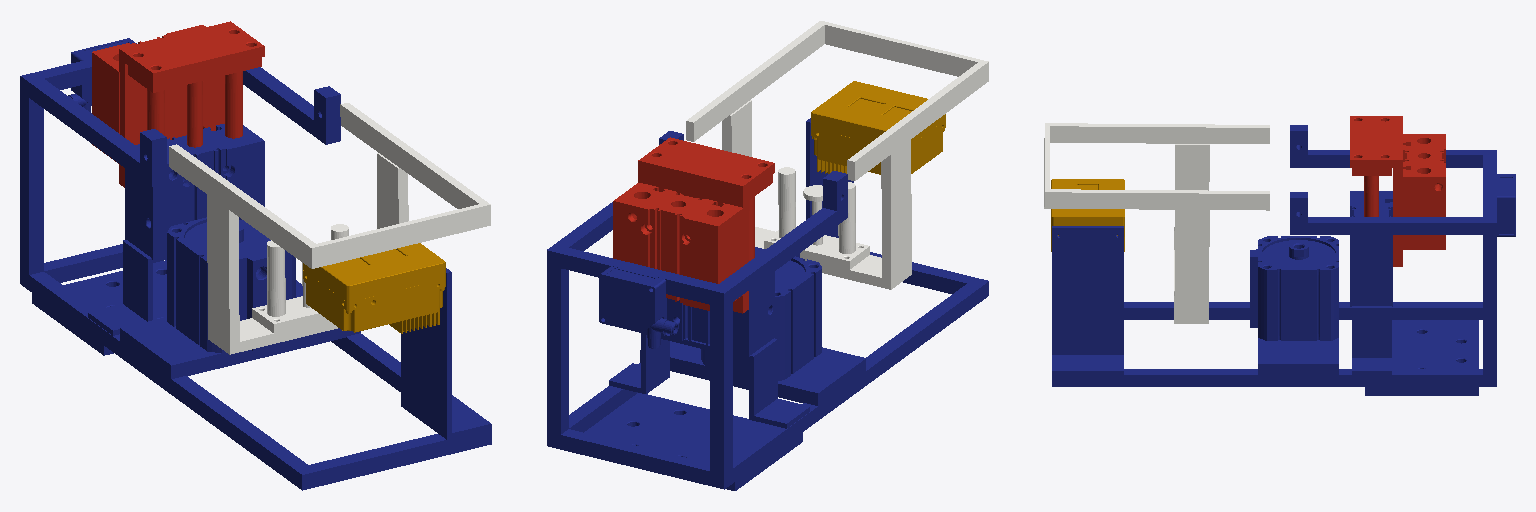
URDF robot description (eoat):
<?xml version="1.0" ?>
<!-- =================================================================================== -->
<!-- |    This document was autogenerated by xacro from eoat.xacro                     | -->
<!-- |    EDITING THIS FILE BY HAND IS NOT RECOMMENDED                                 | -->
<!-- =================================================================================== -->
<robot name="eoat">
  <material name="silver_default">
    <color rgba="0.700 0.700 0.700 1.000"/>
  </material>
  <material name="paint_metallic_red">
    <color rgba="0.7686274509803922 0.20784313725490197 0.15294117647058825 1.0"/>
  </material>
  <material name="paint_metallic_silver">
    <color rgba="0.984313725490196 0.9803921568627451 0.9607843137254902 1.0"/>
  </material>
  <material name="paint_metallic_blue">
    <color rgba="0.18823529411764706 0.23137254901960785 0.5882352941176471 1.0"/>
  </material>
  <material name="polymide_kapton">
    <color rgba="0.7843137254901961 0.5568627450980392 0.027450980392156862 1.0"/>
  </material>
  <transmission name="boxSupport_joint_tran">
    <type>transmission_interface/SimpleTransmission</type>
    <joint name="boxSupport_joint">
      <hardwareInterface>hardware_interface/EffortJointInterface</hardwareInterface>
    </joint>
    <actuator name="boxSupport_joint_actr">
      <hardwareInterface>hardware_interface/EffortJointInterface</hardwareInterface>
      <mechanicalReduction>1</mechanicalReduction>
    </actuator>
  </transmission>
  <transmission name="suctionLifter_joint_tran">
    <type>transmission_interface/SimpleTransmission</type>
    <joint name="suctionLifter_joint">
      <hardwareInterface>hardware_interface/EffortJointInterface</hardwareInterface>
    </joint>
    <actuator name="suctionLifter_joint_actr">
      <hardwareInterface>hardware_interface/EffortJointInterface</hardwareInterface>
      <mechanicalReduction>1</mechanicalReduction>
    </actuator>
  </transmission>
  <transmission name="suction_joint_tran">
    <type>transmission_interface/SimpleTransmission</type>
    <joint name="suction_joint">
      <hardwareInterface>hardware_interface/EffortJointInterface</hardwareInterface>
    </joint>
    <actuator name="suction_joint_actr">
      <hardwareInterface>hardware_interface/EffortJointInterface</hardwareInterface>
      <mechanicalReduction>1</mechanicalReduction>
    </actuator>
  </transmission>
  <transmission name="padRotate_joint_tran">
    <type>transmission_interface/SimpleTransmission</type>
    <joint name="padRotate_joint">
      <hardwareInterface>hardware_interface/EffortJointInterface</hardwareInterface>
    </joint>
    <actuator name="padRotate_joint_actr">
      <hardwareInterface>hardware_interface/EffortJointInterface</hardwareInterface>
      <mechanicalReduction>1</mechanicalReduction>
    </actuator>
  </transmission>
  <gazebo>
    <plugin filename="libgazebo_ros_control.so" name="control"/>
  </gazebo>
  <gazebo reference="base_link">
    <material>Gazebo/Silver</material>
    <mu1>0.2</mu1>
    <mu2>0.2</mu2>
    <selfCollide>true</selfCollide>
    <gravity>true</gravity>
  </gazebo>
  <gazebo reference="LARGE_PAD_LIFTER_1">
    <material>Gazebo/Silver</material>
    <mu1>0.2</mu1>
    <mu2>0.2</mu2>
    <selfCollide>true</selfCollide>
  </gazebo>
  <gazebo reference="SMALL_PAD_LIFTER_1">
    <material>Gazebo/Silver</material>
    <mu1>0.2</mu1>
    <mu2>0.2</mu2>
    <selfCollide>true</selfCollide>
  </gazebo>
  <gazebo reference="SMALL_PAD_1">
    <material>Gazebo/Silver</material>
    <mu1>0.2</mu1>
    <mu2>0.2</mu2>
    <selfCollide>true</selfCollide>
  </gazebo>
  <gazebo reference="LARGE_PAD_1">
    <material>Gazebo/Silver</material>
    <mu1>0.2</mu1>
    <mu2>0.2</mu2>
    <selfCollide>true</selfCollide>
  </gazebo>
  <gazebo reference="camera_1">
    <material>Gazebo/Silver</material>
    <mu1>0.2</mu1>
    <mu2>0.2</mu2>
    <selfCollide>true</selfCollide>
  </gazebo>
  <link name="base_link">
    <inertial>
      <origin rpy="0 0 0" xyz="-0.0013655188721125974 -0.09999111481847915 0.06942952989988299"/>
      <mass value="15.51108141594419"/>
      <inertia ixx="0.275049" ixy="0.008744" ixz="-6.7e-05" iyy="0.112146" iyz="-0.02779" izz="0.25806"/>
    </inertial>
    <visual>
      <origin rpy="0 0 0" xyz="0 0 0"/>
      <geometry>
        <mesh filename="package://eoat_description/meshes/base_link.stl" scale="0.001 0.001 0.001"/>
      </geometry>
      <material name="paint_metallic_blue"/>
    </visual>
    <collision>
      <origin rpy="0 0 0" xyz="0 0 0"/>
      <geometry>
        <mesh filename="package://eoat_description/meshes/base_link.stl" scale="0.001 0.001 0.001"/>
      </geometry>
    </collision>
  </link>
  <link name="LARGE_PAD_LIFTER_1">
    <inertial>
      <origin rpy="0 0 0" xyz="2.739799308567985e-07 -0.01887908495888596 0.01569535162540217"/>
      <mass value="2.5776810090097073"/>
      <inertia ixx="0.016363" ixy="-0.0" ixz="0.0" iyy="0.021404" iyz="0.003611" izz="0.019622"/>
    </inertial>
    <visual>
      <origin rpy="0 0 0" xyz="0.001678 0.260502 -0.133561"/>
      <geometry>
        <mesh filename="package://eoat_description/meshes/LARGE_PAD_LIFTER_1.stl" scale="0.001 0.001 0.001"/>
      </geometry>
      <material name="paint_metallic_silver"/>
    </visual>
    <collision>
      <origin rpy="0 0 0" xyz="0.001678 0.260502 -0.133561"/>
      <geometry>
        <mesh filename="package://eoat_description/meshes/LARGE_PAD_LIFTER_1.stl" scale="0.001 0.001 0.001"/>
      </geometry>
    </collision>
  </link>
  <link name="SMALL_PAD_LIFTER_1">
    <inertial>
      <origin rpy="0 0 0" xyz="0.038585639133993 0.03725443859840258 0.12440700695971876"/>
      <mass value="5.131967588982711"/>
      <inertia ixx="0.01009" ixy="5.5e-05" ixz="-1.3e-05" iyy="0.01215" iyz="0.001465" izz="0.009503"/>
    </inertial>
    <visual>
      <origin rpy="0 0 0" xyz="0.040088 0.062833 -0.075541"/>
      <geometry>
        <mesh filename="package://eoat_description/meshes/SMALL_PAD_LIFTER_1.stl" scale="0.001 0.001 0.001"/>
      </geometry>
      <material name="paint_metallic_red"/>
    </visual>
    <collision>
      <origin rpy="0 0 0" xyz="0.040088 0.062833 -0.075541"/>
      <geometry>
        <mesh filename="package://eoat_description/meshes/SMALL_PAD_LIFTER_1.stl" scale="0.001 0.001 0.001"/>
      </geometry>
    </collision>
  </link>
  <link name="SMALL_PAD_1">
    <inertial>
      <origin rpy="0 0 0" xyz="-0.03897023151560615 -0.00026688633084927076 0.12961367871119145"/>
      <mass value="7.67930271069137"/>
      <inertia ixx="0.021317" ixy="-1e-05" ixz="2e-06" iyy="0.028823" iyz="-2.1e-05" izz="0.037858"/>
    </inertial>
    <visual>
      <origin rpy="0 0 0" xyz="-0.037322 0.004833 -0.148202"/>
      <geometry>
        <mesh filename="package://eoat_description/meshes/SMALL_PAD_1.stl" scale="0.001 0.001 0.001"/>
      </geometry>
      <material name="paint_metallic_silver"/>
    </visual>
    <collision>
      <origin rpy="0 0 0" xyz="-0.037322 0.004833 -0.148202"/>
      <geometry>
        <mesh filename="package://eoat_description/meshes/SMALL_PAD_1.stl" scale="0.001 0.001 0.001"/>
      </geometry>
    </collision>
  </link>
  <link name="LARGE_PAD_1">
    <inertial>
      <origin rpy="0 0 0" xyz="0.07995131190356848 -0.13296840070700255 0.005166199269273419"/>
      <mass value="11.366258677174615"/>
      <inertia ixx="0.072156" ixy="-0.0" ixz="-2.8e-05" iyy="0.030353" iyz="0.002558" izz="0.089017"/>
    </inertial>
    <visual>
      <origin rpy="0 0 0" xyz="0.081678 0.142833 -0.210041"/>
      <geometry>
        <mesh filename="package://eoat_description/meshes/LARGE_PAD_1.stl" scale="0.001 0.001 0.001"/>
      </geometry>
      <material name="paint_metallic_silver"/>
    </visual>
    <collision>
      <origin rpy="0 0 0" xyz="0.081678 0.142833 -0.210041"/>
      <geometry>
        <mesh filename="package://eoat_description/meshes/LARGE_PAD_1.stl" scale="0.001 0.001 0.001"/>
      </geometry>
    </collision>
  </link>
  <link name="camera_1">
    <inertial>
      <origin rpy="0 0 0" xyz="-0.04819469681953277 0.03230748663147348 -0.004147639356130328"/>
      <mass value="3.034444752554033"/>
      <inertia ixx="0.00224" ixy="1e-06" ixz="0.000132" iyy="0.003128" iyz="-1e-06" izz="0.004062"/>
    </inertial>
    <visual>
      <origin rpy="0 0 0" xyz="-0.048322 0.407133 -0.165041"/>
      <geometry>
        <mesh filename="package://eoat_description/meshes/camera_1.stl" scale="0.001 0.001 0.001"/>
      </geometry>
      <material name="polymide_kapton"/>
    </visual>
    <collision>
      <origin rpy="0 0 0" xyz="-0.048322 0.407133 -0.165041"/>
      <geometry>
        <mesh filename="package://eoat_description/meshes/camera_1.stl" scale="0.001 0.001 0.001"/>
      </geometry>
    </collision>
  </link>
  <joint name="boxSupport_joint" type="prismatic">
    <origin rpy="0 0 0" xyz="0.08 -0.117669 -0.07648"/>
    <parent link="LARGE_PAD_1"/>
    <child link="LARGE_PAD_LIFTER_1"/>
    <axis xyz="0.0 -0.008691 -0.999962"/>
    <limit effort="100" lower="-0.01" upper="0.04" velocity="100"/>
  </joint>
  <joint name="suctionLifter_joint" type="prismatic">
    <origin rpy="0 0 0" xyz="-0.040088 -0.062833 0.075541"/>
    <parent link="base_link"/>
    <child link="SMALL_PAD_LIFTER_1"/>
    <axis xyz="-0.0 -0.0 -1.0"/>
    <limit effort="100" lower="-0.05" upper="0.0" velocity="100"/>
  </joint>
  <joint name="suction_joint" type="prismatic">
    <origin rpy="0 0 0" xyz="0.07741 0.058 0.072661"/>
    <parent link="SMALL_PAD_LIFTER_1"/>
    <child link="SMALL_PAD_1"/>
    <axis xyz="0.0 -0.0 1.0"/>
    <limit effort="100" lower="-0.015" upper="0.05" velocity="100"/>
  </joint>
  <joint name="padRotate_joint" type="revolute">
    <origin rpy="0 0 0" xyz="-0.081678 -0.142833 0.210041"/>
    <parent link="base_link"/>
    <child link="LARGE_PAD_1"/>
    <axis xyz="1.0 0.0 0.0"/>
    <limit effort="100" lower="-1.570796" upper="0.0" velocity="100"/>
  </joint>
  <joint name="cxamera_joint " type="fixed">
    <origin rpy="0 0 0" xyz="0.048322 -0.407133 0.165041"/>
    <parent link="base_link"/>
    <child link="camera_1"/>
  </joint>
</robot>

--- Render facts (derived) ---
The picture shows the robot from 3 angles, left to right: view 1: azimuth 30°, elevation 25°; view 2: azimuth 150°, elevation 25°; view 3: azimuth 270°, elevation 25°; orthographic projection.
Robot: eoat — 6 links, 5 joints (1 revolute, 3 prismatic, 1 fixed); root link base_link; default pose: all joints at 0.
Links seen in each view (by area): view 1: base_link, LARGE_PAD_LIFTER_1, SMALL_PAD_LIFTER_1, camera_1; view 2: base_link, LARGE_PAD_LIFTER_1, SMALL_PAD_LIFTER_1, camera_1; view 3: base_link, LARGE_PAD_LIFTER_1, SMALL_PAD_LIFTER_1, camera_1.
Boxes of the visible links, left/top/right/bottom form: base_link: left=20, top=38, right=491, bottom=490; LARGE_PAD_LIFTER_1: left=169, top=103, right=490, bottom=354; SMALL_PAD_LIFTER_1: left=92, top=21, right=264, bottom=187; camera_1: left=303, top=243, right=445, bottom=333; base_link: left=547, top=118, right=988, bottom=490; LARGE_PAD_LIFTER_1: left=686, top=21, right=988, bottom=289; SMALL_PAD_LIFTER_1: left=613, top=137, right=774, bottom=313; camera_1: left=811, top=81, right=945, bottom=174; base_link: left=1052, top=125, right=1515, bottom=395; LARGE_PAD_LIFTER_1: left=1044, top=123, right=1269, bottom=323; SMALL_PAD_LIFTER_1: left=1350, top=116, right=1445, bottom=266; camera_1: left=1051, top=179, right=1124, bottom=251.
Bounding box of the posed robot: 0.1906 × 0.5184 × 0.2687 m (x, y, z).
4 mesh visuals loaded from 6 distinct referenced files (4 binary STL); not drawn: 2 (reference not matched to a file when rendering).
